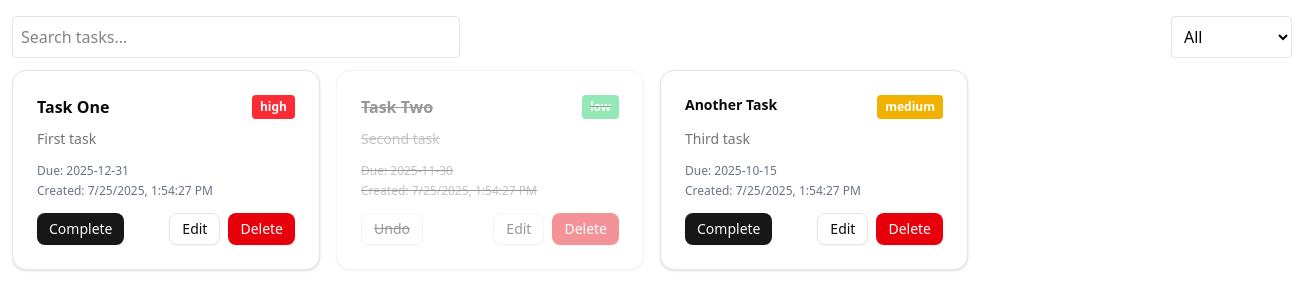
it: TaskList › filters tasks by pending status
The width and height of the screenshot is (1304, 288).
Select "Pending" in the dropdown showing "All": x=1232, y=37 [1171,16,1292,58]
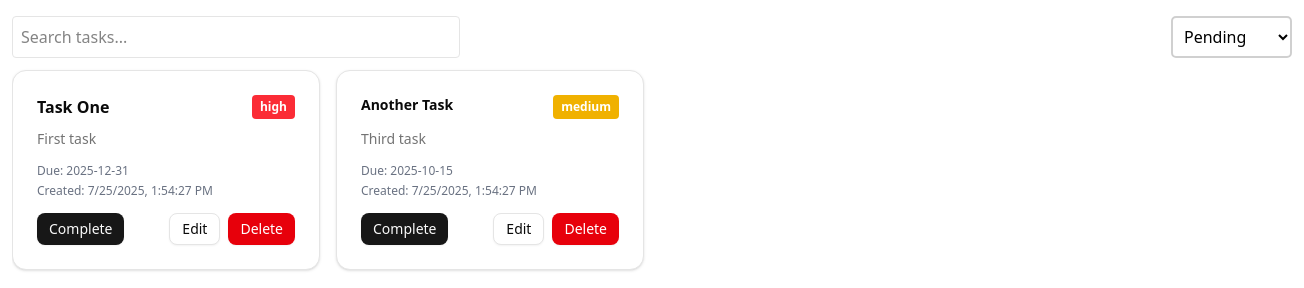
Expected: the text "Task One" is shown, [37,95,109,119]
Expected: the text "Task Two" is gone
